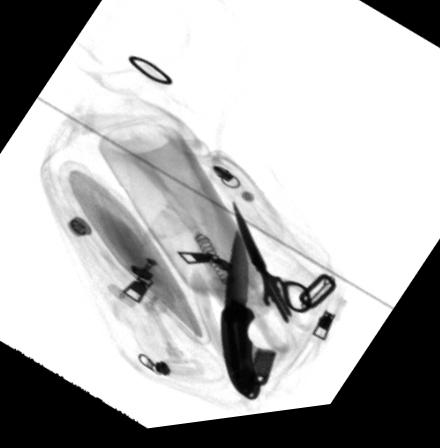Knife: (220, 235, 261, 409)
Scissors: (233, 206, 319, 360)
